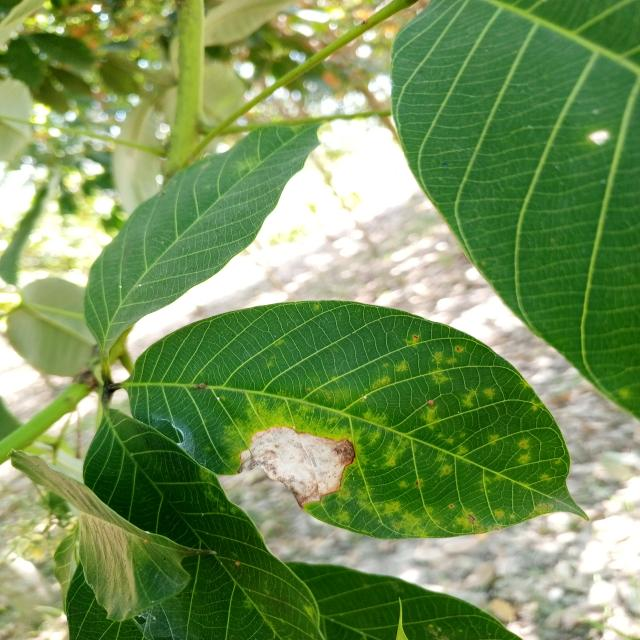Leaf-Blight: (237, 426, 355, 509)
